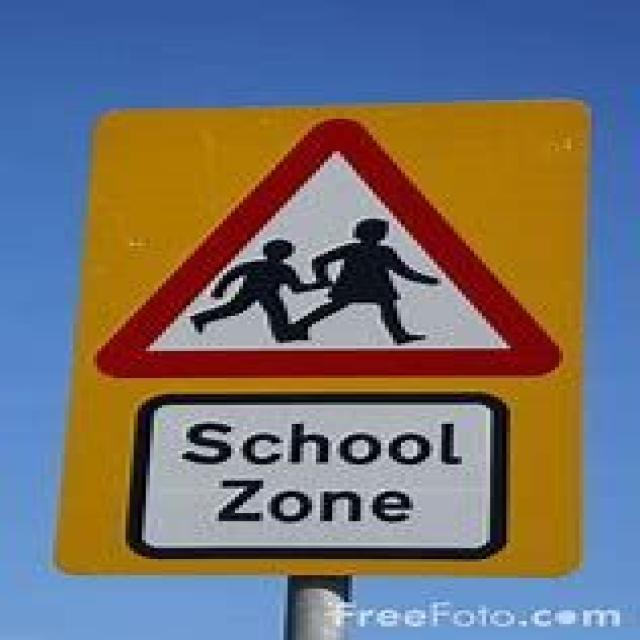school ahead: (95, 109, 568, 383)
